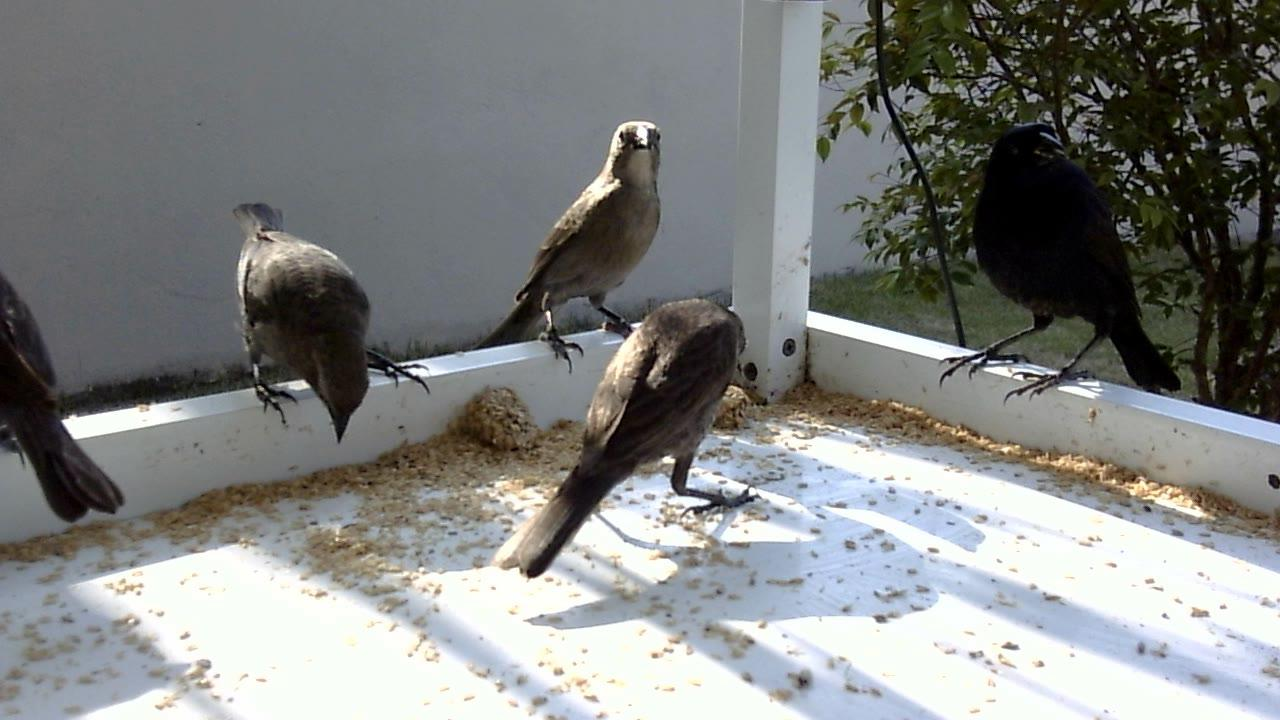chupim: (492, 297, 766, 585), (930, 120, 1188, 411), (227, 198, 438, 451), (472, 117, 672, 378), (1, 257, 140, 530)
